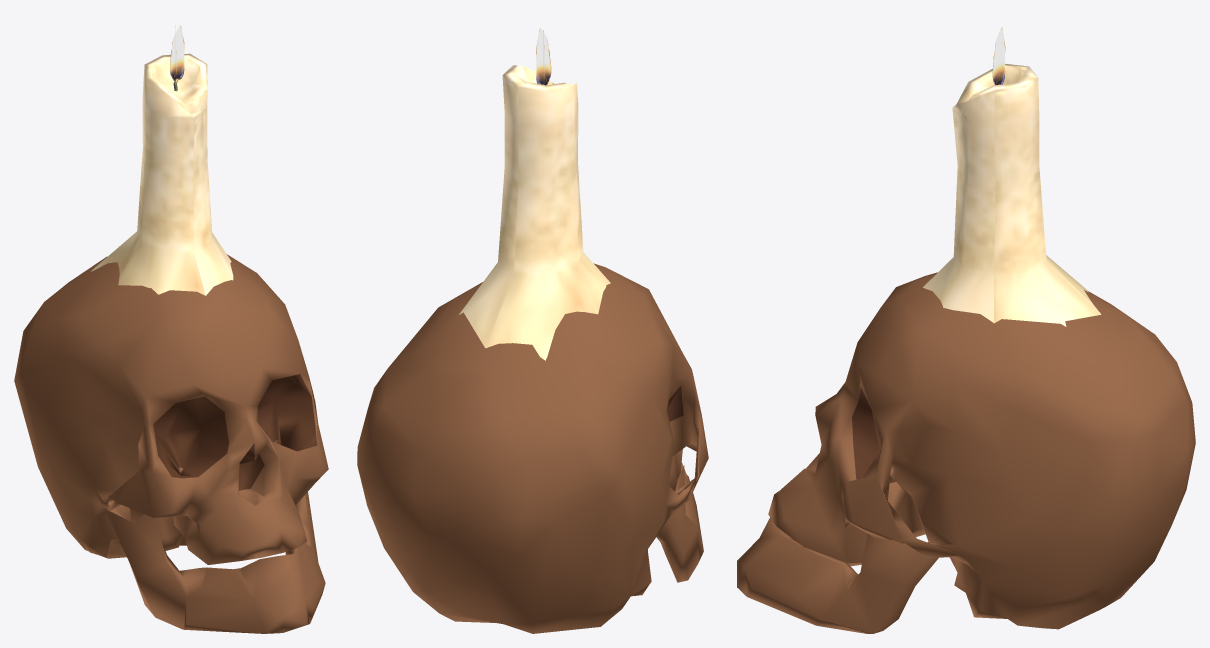
Rendered from d2661118-bee2-4eef-a59c-90b89979103c.glb.
3 views of the same model, side by side, from view 1: azimuth 30°, elevation 25°; view 2: azimuth 150°, elevation 25°; view 3: azimuth 270°, elevation 25° (orthographic). The views are drawn at different scales.
Visible parts, largest first — view 1: CandleSkullShapeA.000; view 2: CandleSkullShapeA.000; view 3: CandleSkullShapeA.000.
Boxes of the visible parts, left/top/right/bottom form: CandleSkullShapeA.000: left=14, top=25, right=328, bottom=633; CandleSkullShapeA.000: left=357, top=28, right=708, bottom=633; CandleSkullShapeA.000: left=737, top=27, right=1195, bottom=633.
Size of the model in its own units: 0.2005 by 0.4386 by 0.3132.
2 materials, 2 textured.
